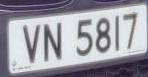1: (111, 10, 124, 58)
5: (73, 14, 96, 63)
7: (121, 9, 140, 55)
8: (94, 12, 114, 60)
N: (43, 17, 66, 69)
V: (20, 21, 43, 67)
